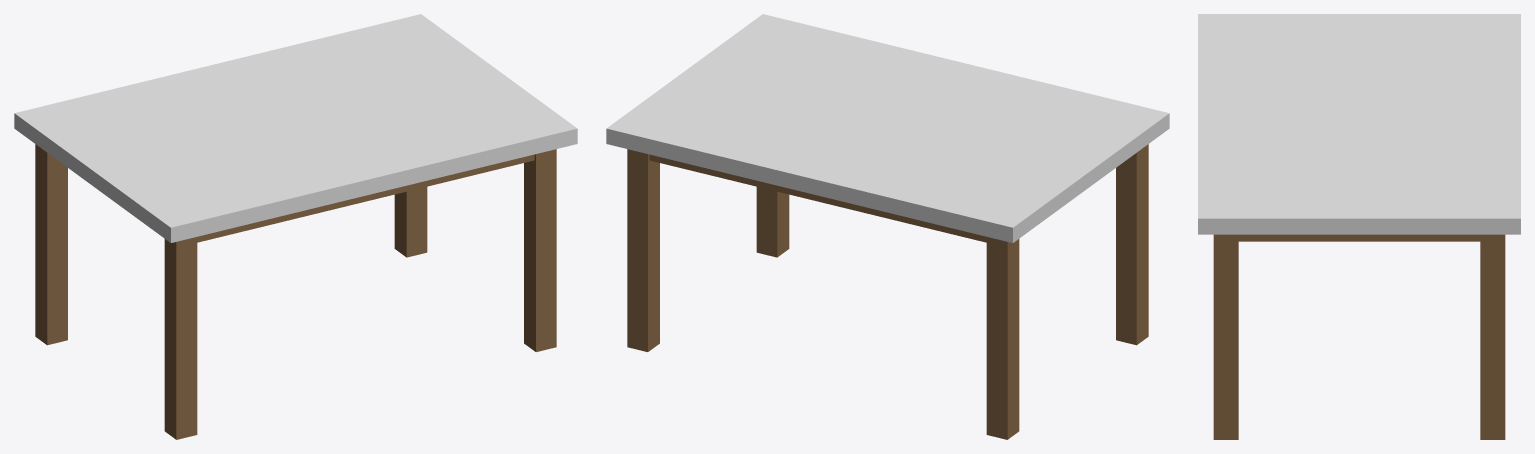
File: SmallTable_02_C1.fbx
The picture shows the model from 3 angles, left to right: view 1: azimuth 30°, elevation 25°; view 2: azimuth 150°, elevation 25°; view 3: azimuth 270°, elevation 25°; orthographic projection. The views are drawn at different scales.
Parts seen in each view (by area): view 1: SmallTable_02_C1; view 2: SmallTable_02_C1; view 3: SmallTable_02_C1.
Part boxes in pixels (<box>): SmallTable_02_C1: <box>14,14,577,439</box>; SmallTable_02_C1: <box>606,14,1169,439</box>; SmallTable_02_C1: <box>1198,14,1520,439</box>.
Size of the model in its own units: 86.52 by 44.93 by 57.68.
